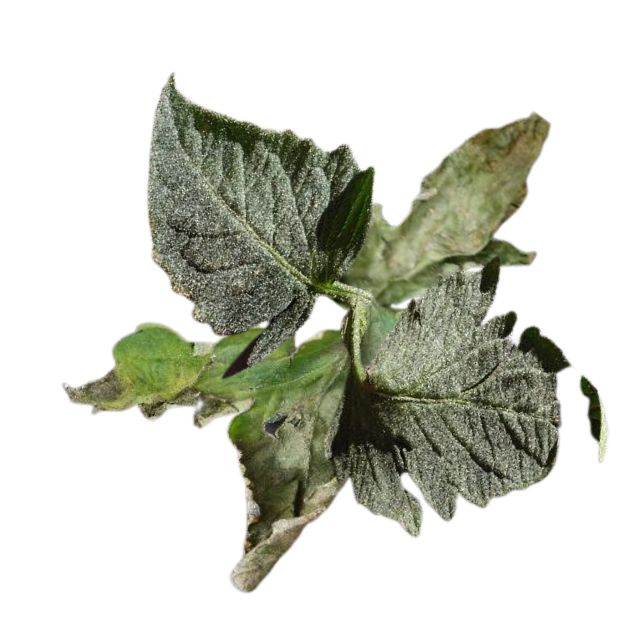Late_blight: (341, 112, 551, 303), (228, 392, 340, 595), (134, 381, 239, 428), (60, 368, 135, 415), (181, 342, 217, 381), (316, 342, 348, 372)
